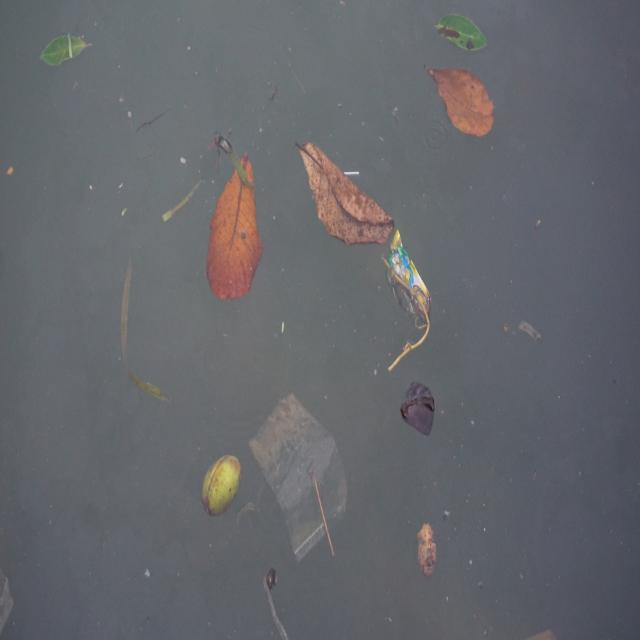Bungkus Makanan: (386, 221, 442, 337)
Kantong Plastik: (250, 389, 348, 566)
